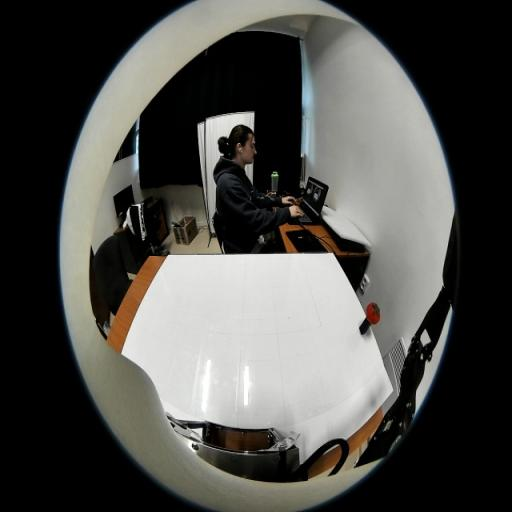Tomato: (366, 302, 380, 324)
